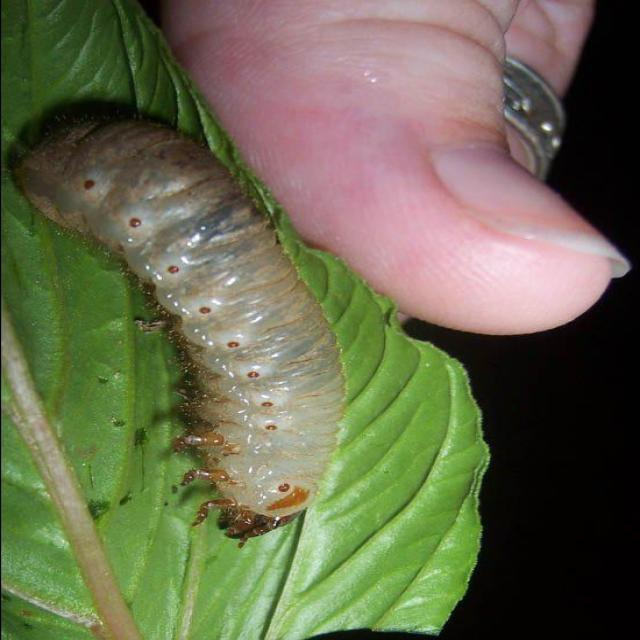grub: (8, 104, 342, 558)
